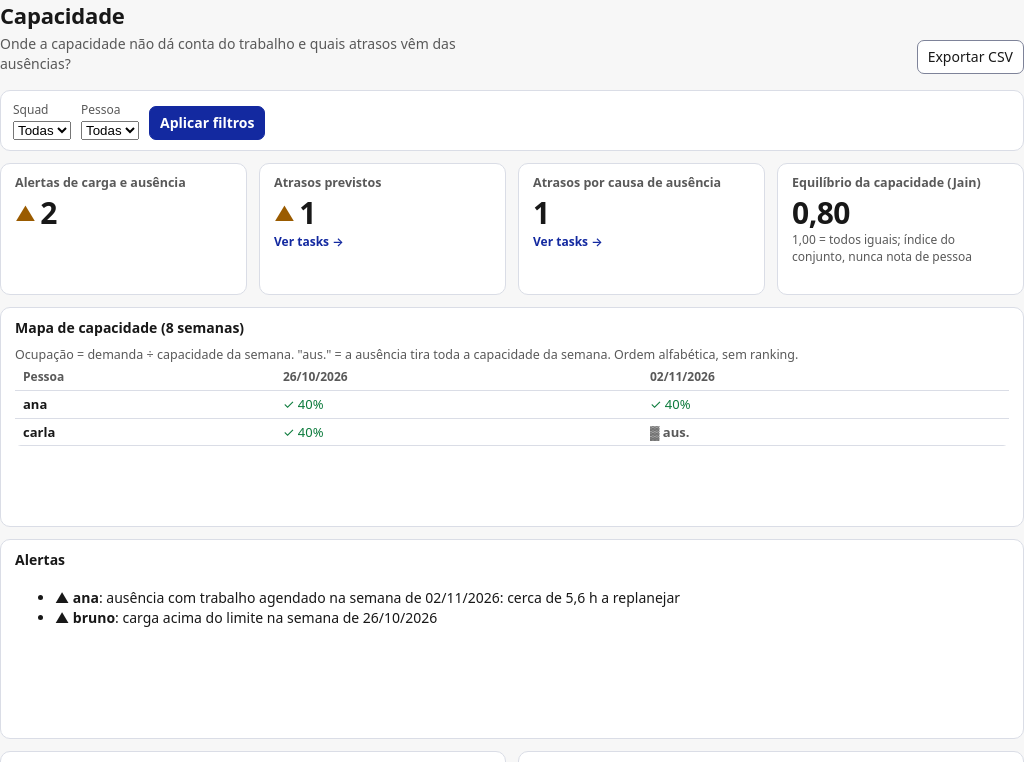
Test case: tela Capacidade e ausências › kpiDeAtrasosAbreGavetaComMesmoTamanho
Click the button named "Atrasos previstos". click: click(382, 223)
box: [274, 196, 491, 250]
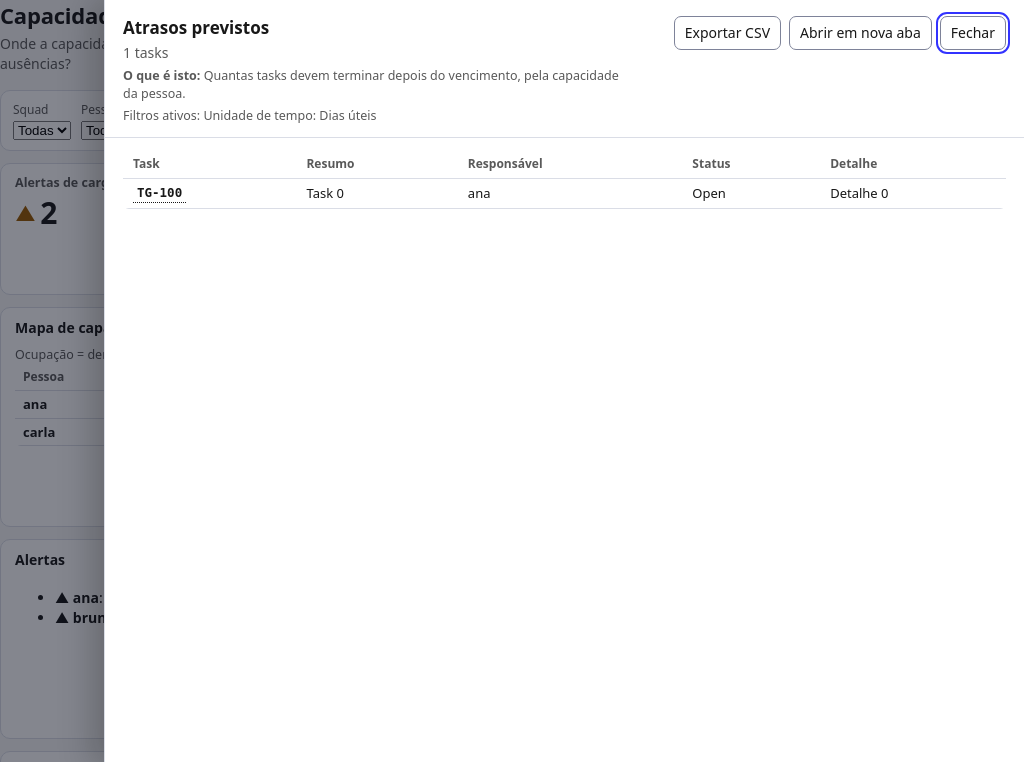
expect the text "1 tasks" is shown: met, box [123, 43, 168, 62]
